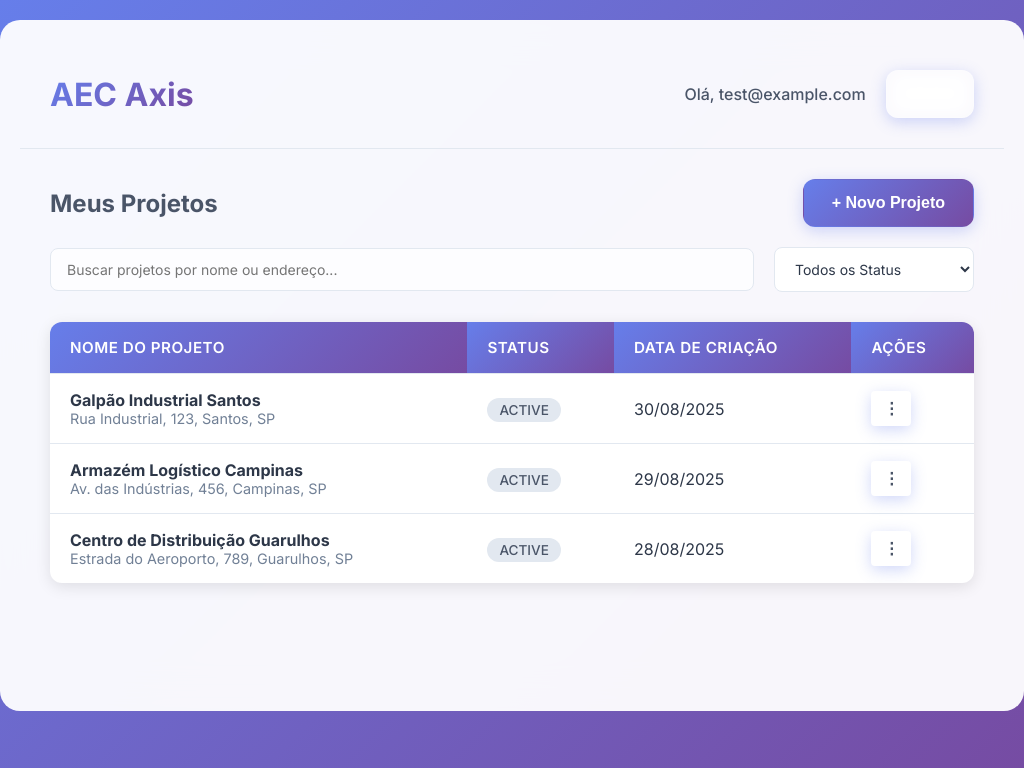
Test: Projects Page › Project Action Menus › opens edit modal when "Editar" is clicked
The width and height of the screenshot is (1024, 768).
Expected: the text "Galpão Industrial Santos" is shown, [70,390,261,410]
Click the button named "ações do projeto" at coordinates (891, 408), box [871,391,911,426]
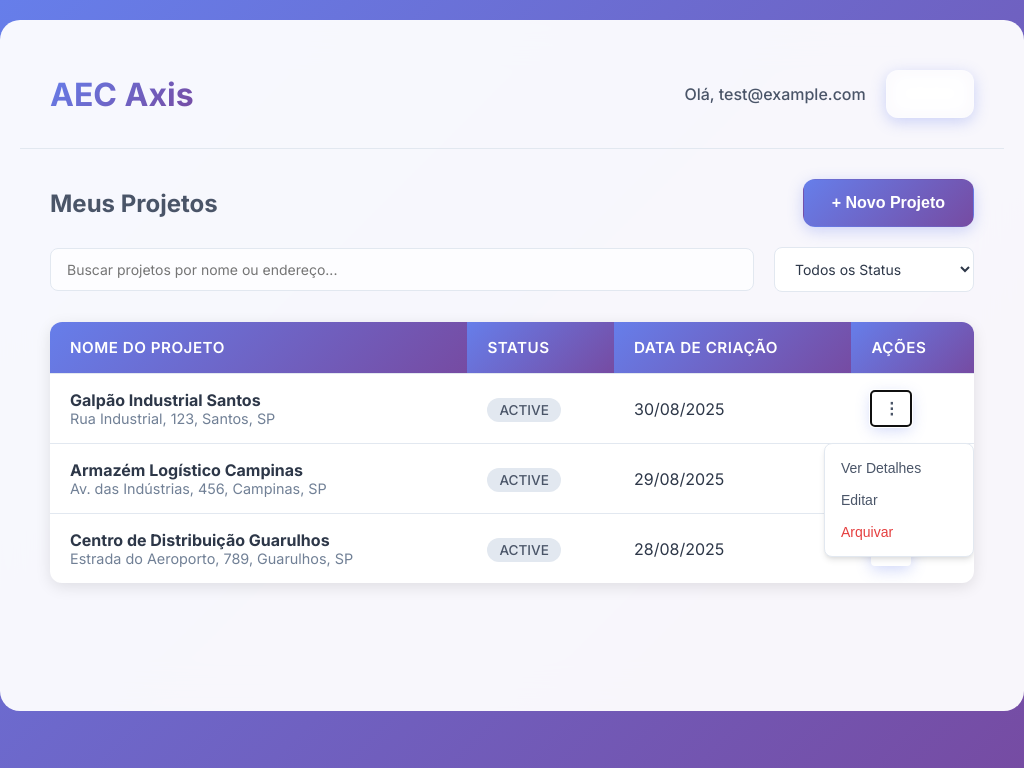
Click the button "Editar" at coordinates (899, 500), box [825,484,973,516]
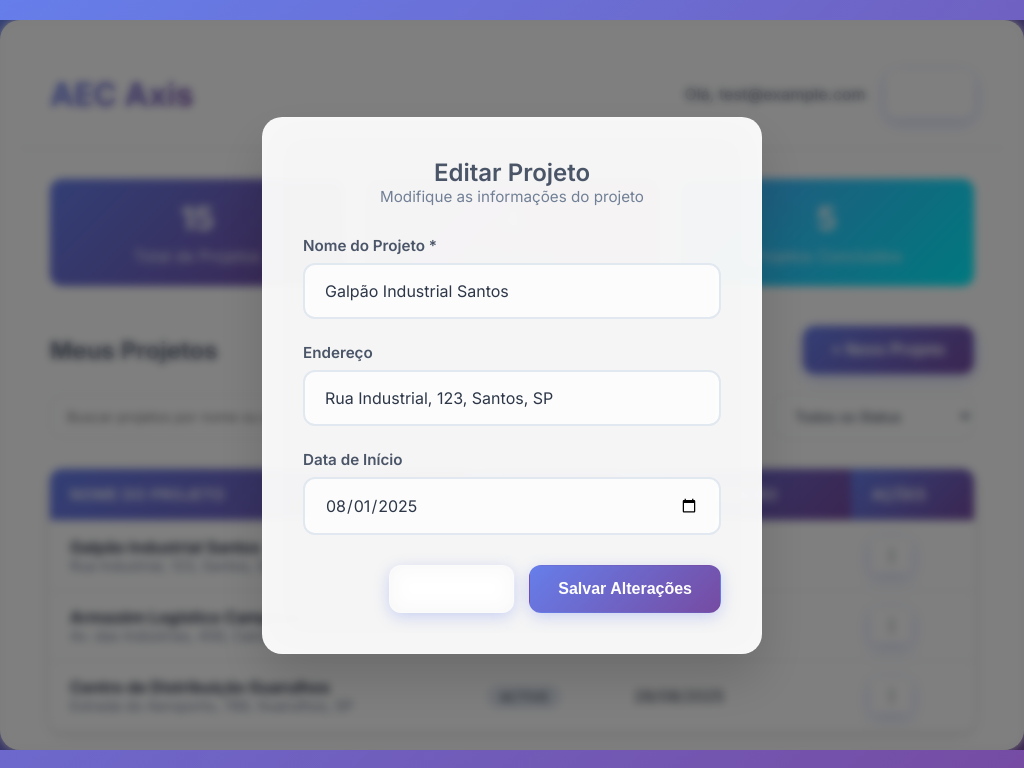
Result: the heading "Editar Projeto" is shown at [434,158,590,186]
